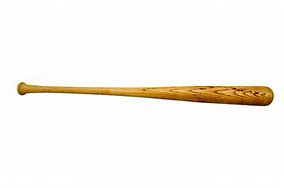bat: (16, 80, 275, 108)
